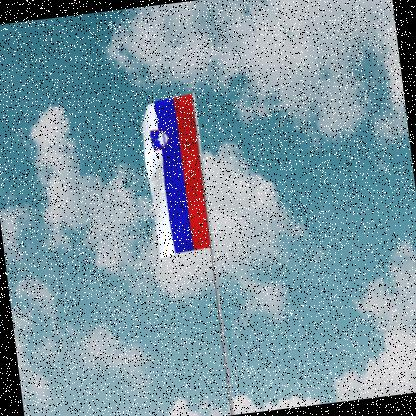si: (139, 95, 212, 261)
